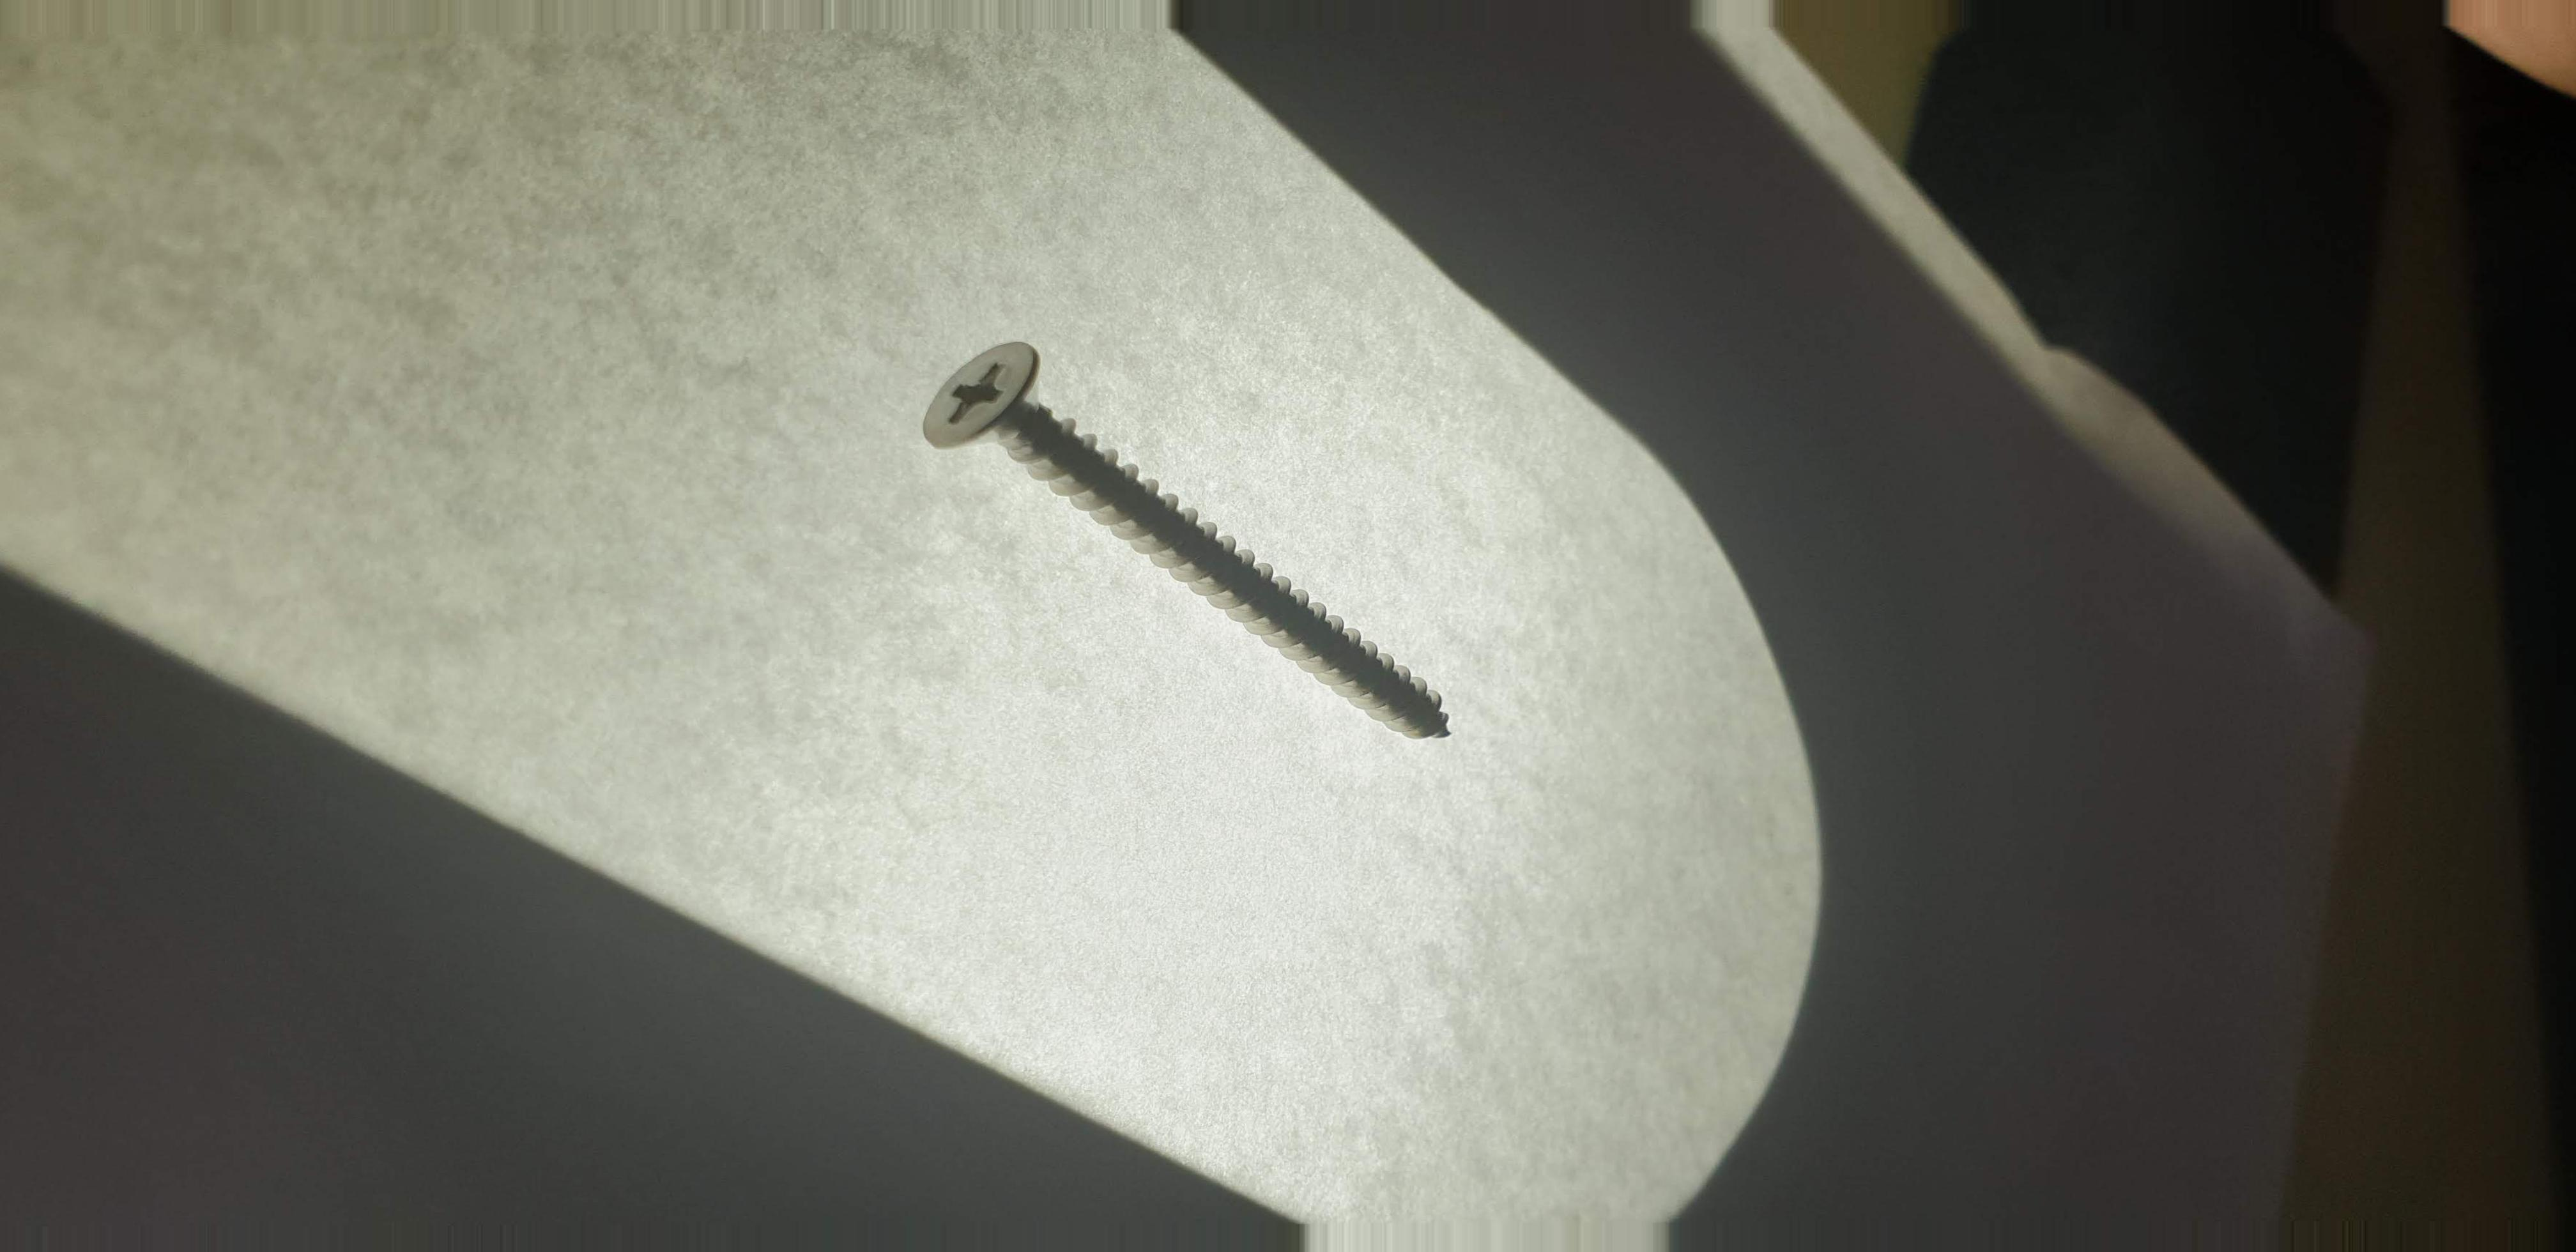S001: (894, 299, 1482, 776)
